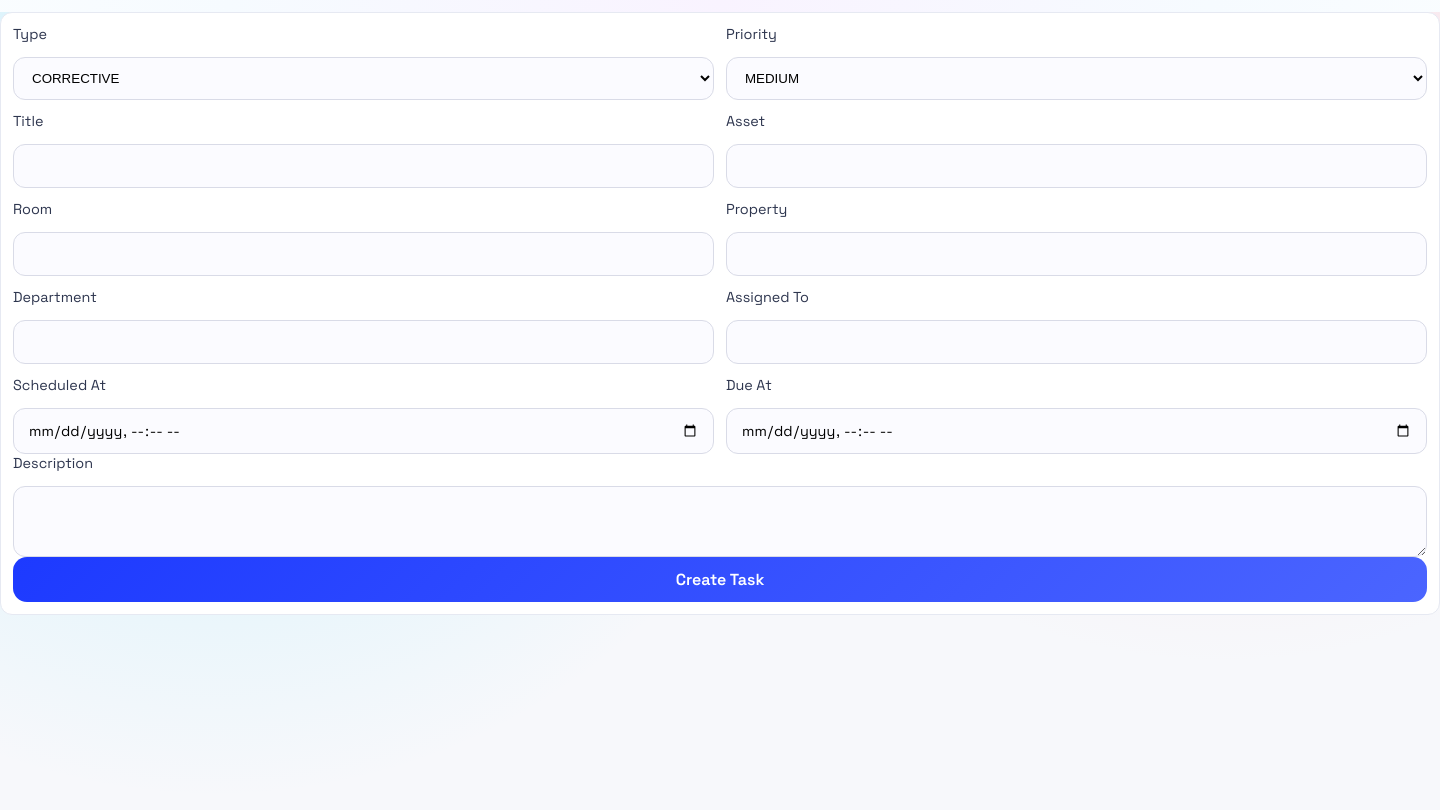
Test: Maintenance workflow components › validates required title
Click the button "Create Task" at (720, 580), box 13,557 -> 1427,602
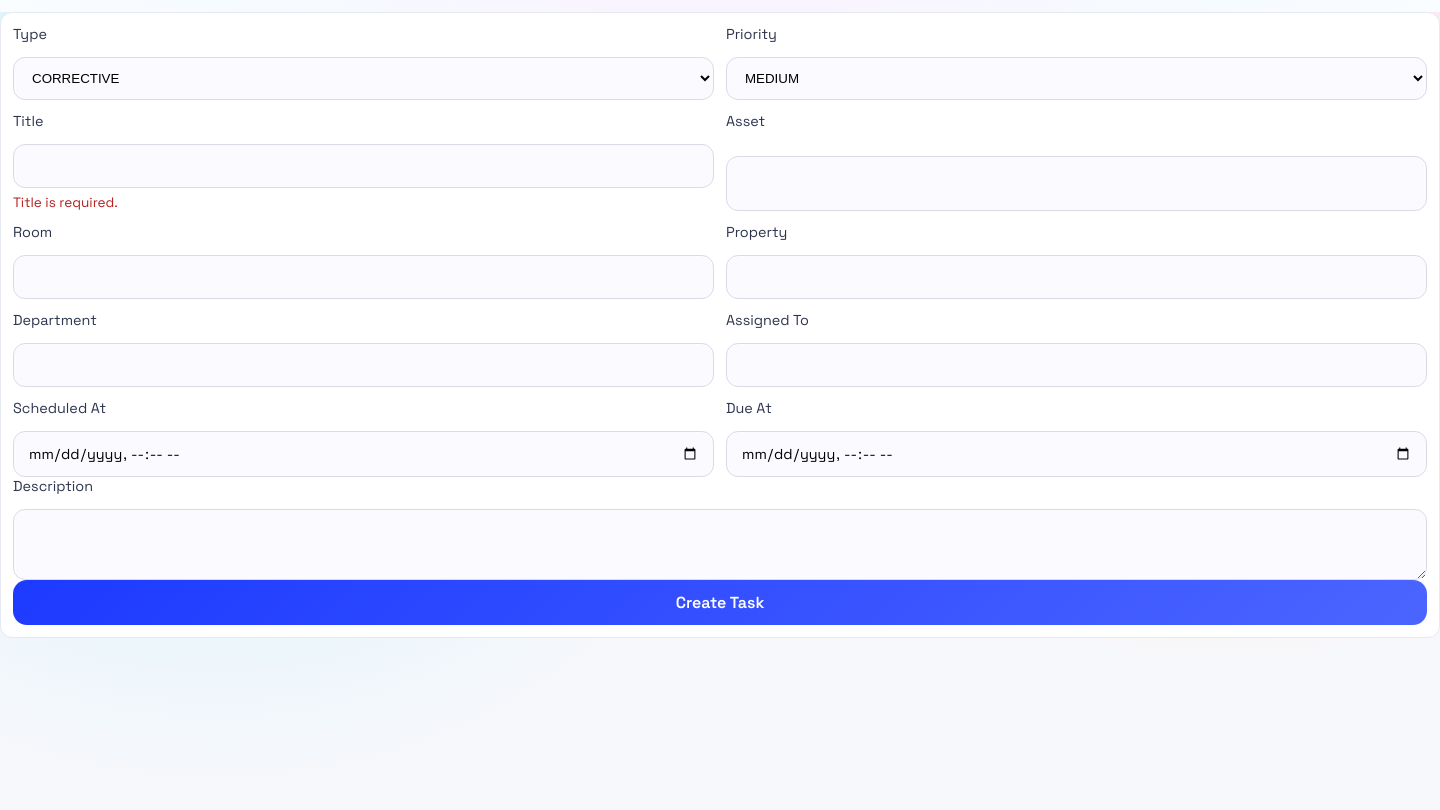
Expected: the text "Title is required." is shown, 13,194 -> 118,211
